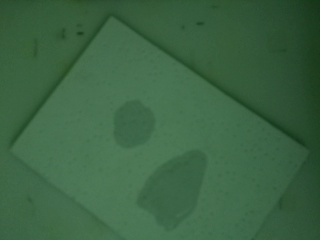Water_detected: (151, 156, 196, 215), (119, 107, 147, 137)
